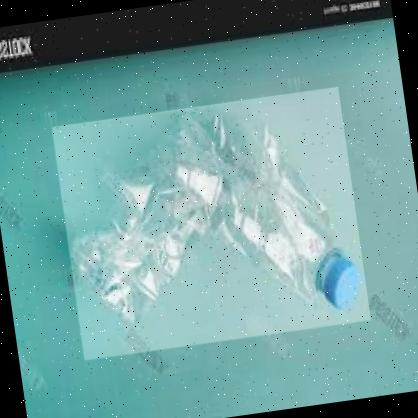bottle: (52, 86, 372, 360)
cap: (313, 248, 360, 314)
